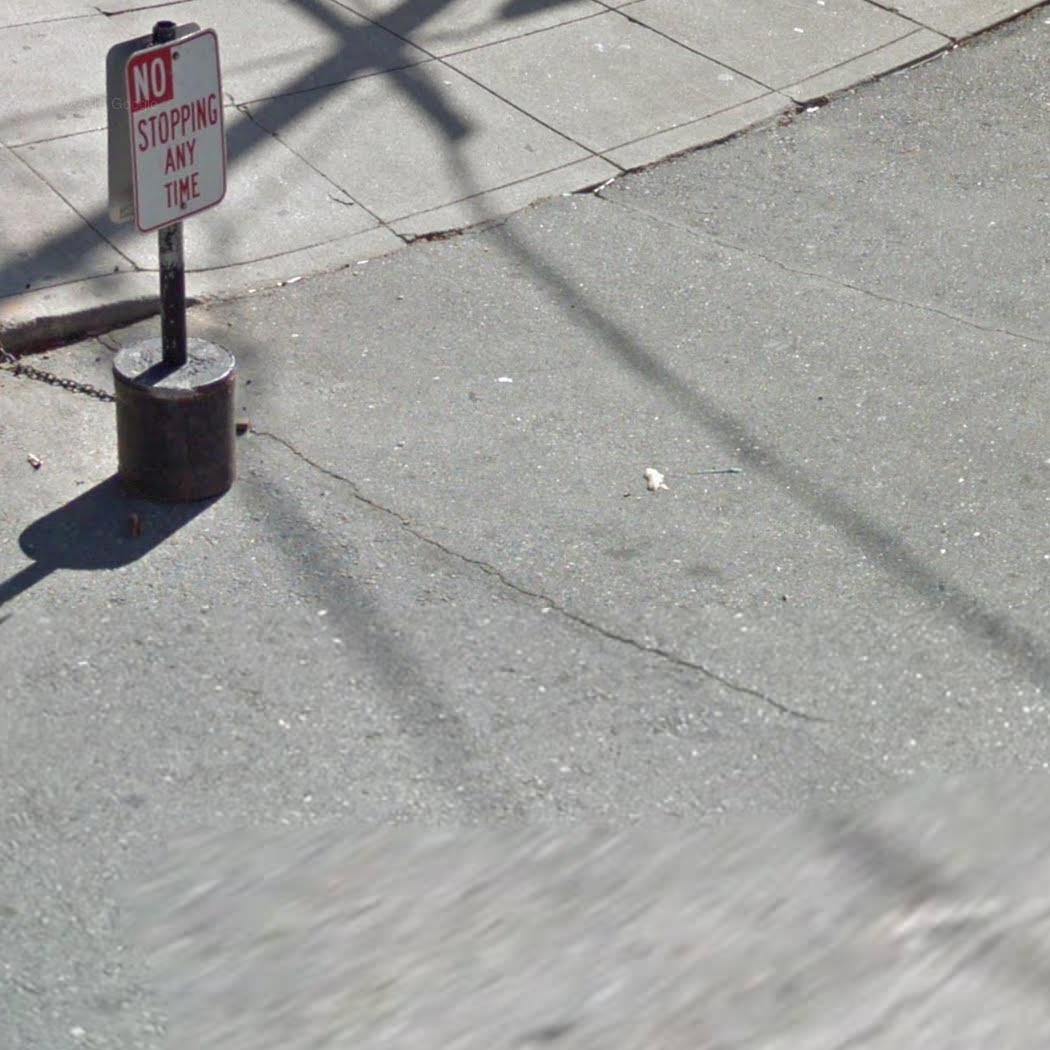No Parking Anytime: (121, 25, 229, 234)
